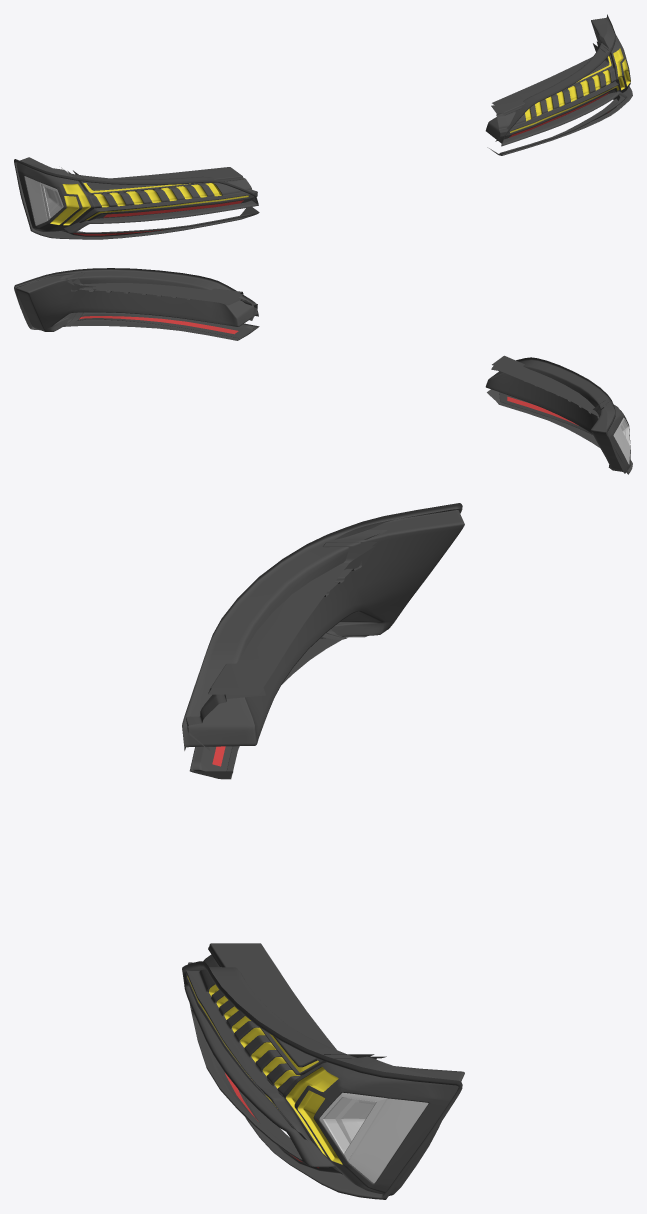
The model's file is FlowingLight.fbx.
3 renders of one model, top to bottom at view 1: azimuth 30°, elevation 25°; view 2: azimuth 150°, elevation 25°; view 3: azimuth 270°, elevation 25°, orthographic. The views are drawn at different scales.
Parts seen in each view (by area): view 1: Light_Black, FlowingLight, Light_Chrome, Light; view 2: Light_Black, Light, Light_Chrome; view 3: Light_Black, Light_Chrome, FlowingLight.
Boxes of the visible parts, <box> form: Light_Black: <box>14,14,632,239</box>; FlowingLight: <box>50,48,630,225</box>; Light_Chrome: <box>24,176,63,225</box>; Light: <box>73,92,609,235</box>; Light_Black: <box>14,268,632,474</box>; Light: <box>79,316,578,425</box>; Light_Chrome: <box>613,417,630,463</box>; Light_Black: <box>182,503,464,1199</box>; Light_Chrome: <box>319,1092,428,1183</box>; FlowingLight: <box>187,976,342,1164</box>.
Bounding box in the file's own units: 172 × 16.32 × 35.28.
